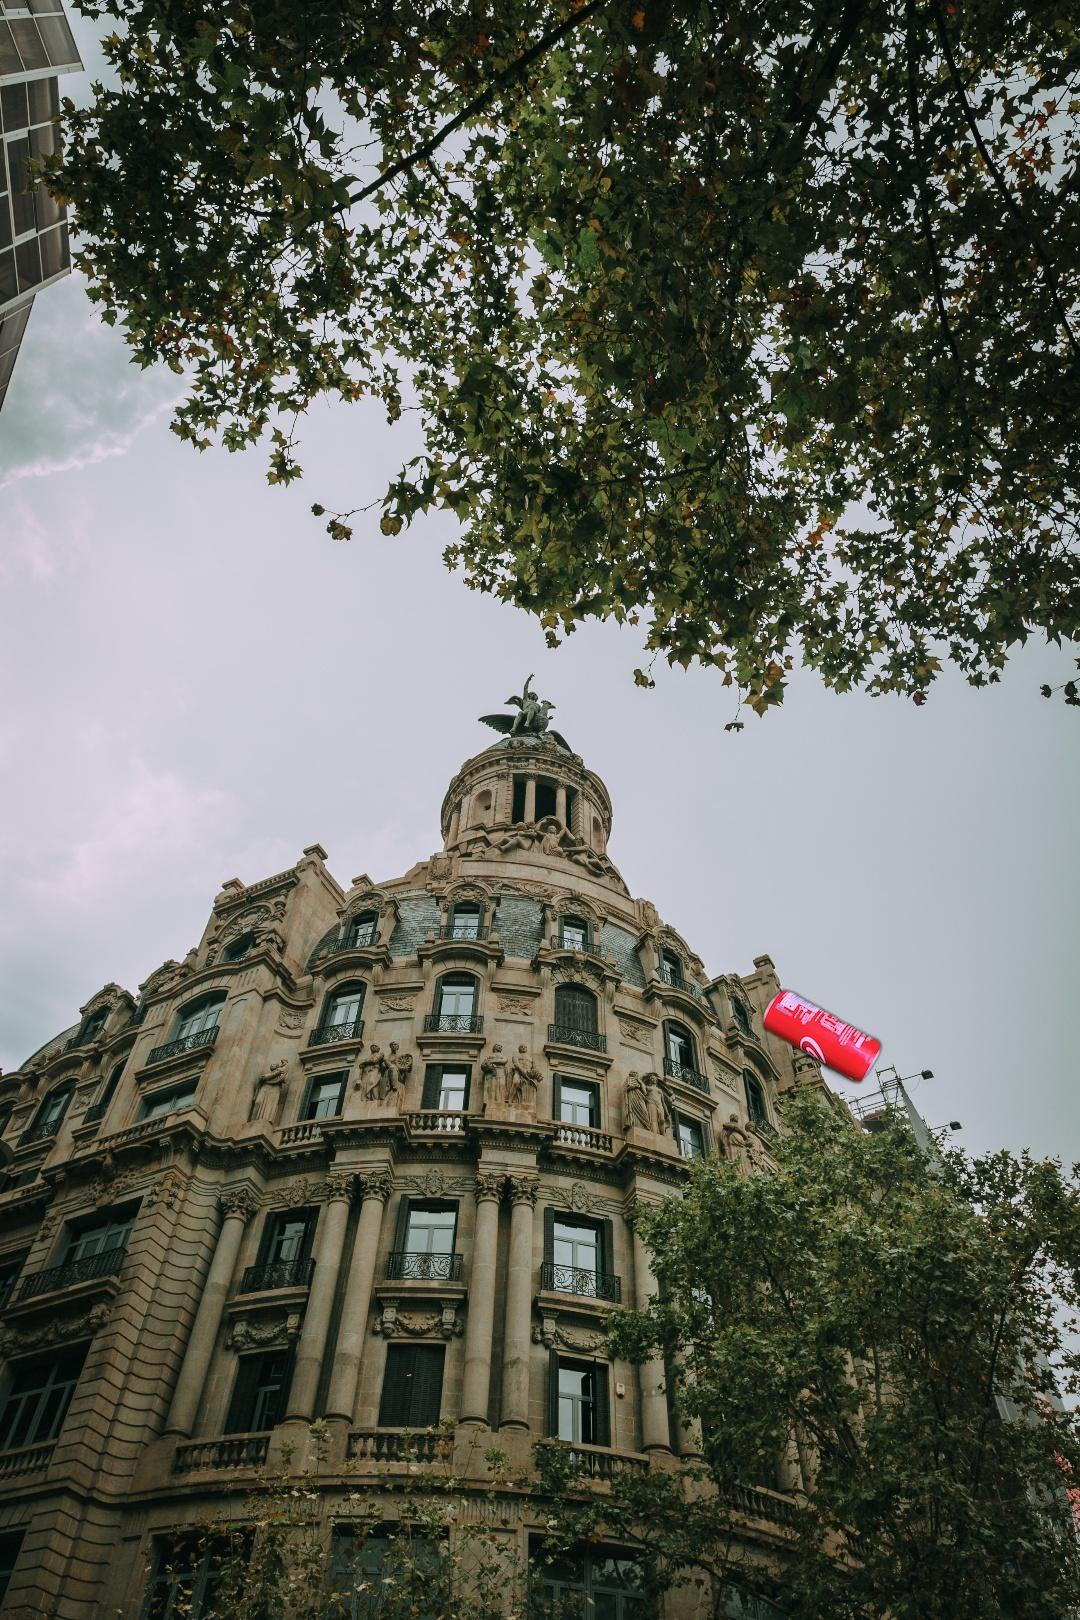metal-cans: (757, 984, 887, 1088)
